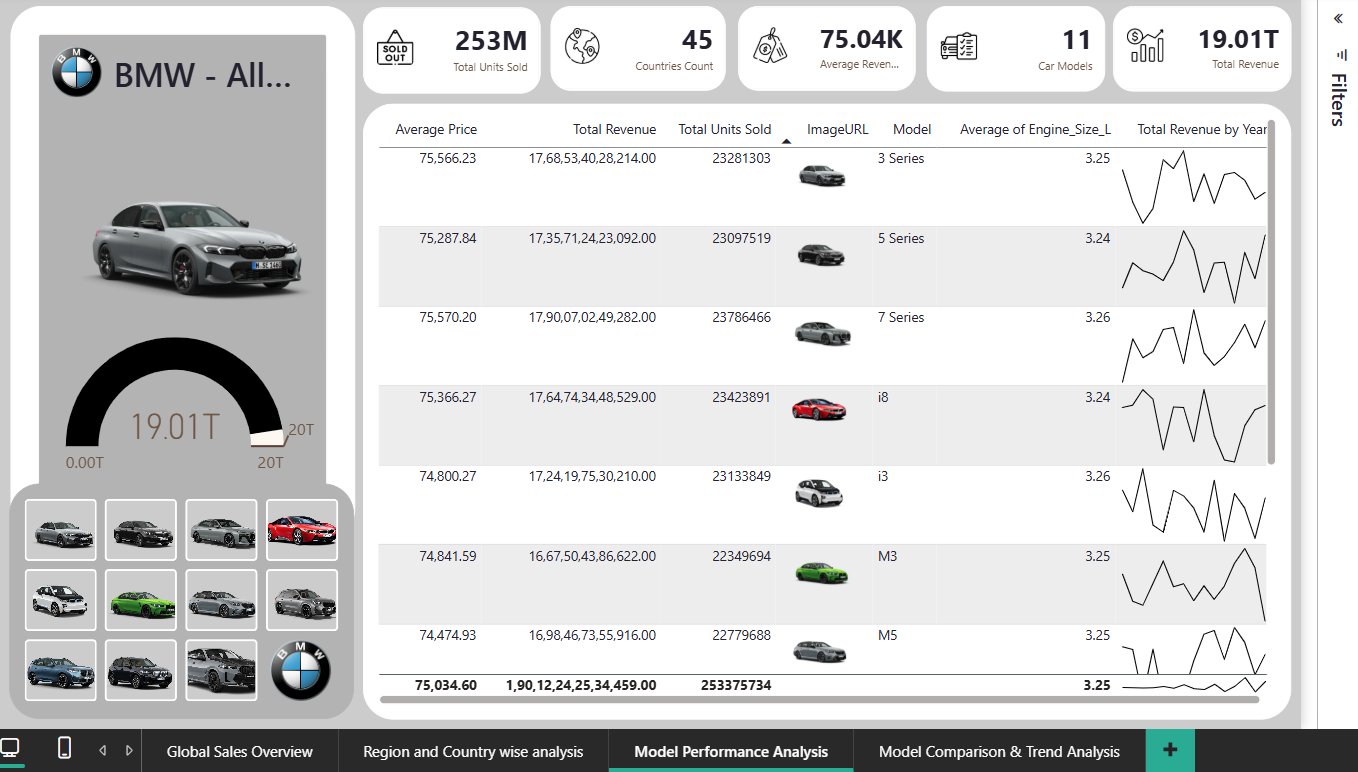

The page's visual inventory and layout, read from the dashboard file:
{"tool":"powerbi","page":{"name":"Model Performance Analysis","canvas":[1280,720],"ordinal":2},"visuals":[{"type":"donutChart","title":"Sales Volume Distribution","fields":{"Category":["Sales.Sales_Classification"],"Y":["_Measures.Total Units Sold"]},"box":[39,408.3,242.4,70.7],"z":2000},{"type":"cardVisual","fields":{"Data":["_Measures.Selected Model"]},"box":[11.7,10,338.3,523.3],"z":4000},{"type":"cardVisual","fields":{"Data":["_Measures.Total Units Sold"]},"box":[358.9,11.1,174.4,84.4],"z":5000},{"type":"cardVisual","fields":{"Data":["_Measures.Countries Count"]},"box":[542.2,10,172.2,83.3],"z":8000},{"type":"cardVisual","fields":{"Data":["_Measures.Average Revenue per Unit"]},"box":[726.7,10,174.4,83.3],"z":9000},{"type":"cardVisual","fields":{"Data":["_Measures.Car Models Count"]},"box":[911.2,10,175,83.8],"z":10000},{"type":"cardVisual","fields":{"Data":["_Measures.Total Revenue"]},"box":[1095,10,175,83.8],"z":11000},{"type":"advancedSlicerVisual","fields":{"Values":["Model_Image.ImageURL"]},"box":[11.4,478.6,338.6,231.4],"z":12000},{"type":"image","box":[261.4,631.4,71.4,60],"z":13000},{"type":"image","box":[13,80.8,337.6,298.7],"z":14000},{"type":"gauge","fields":{"MaxValue":["Model_Image.Revenue Target"],"TargetValue":["Model_Image.Revenue Target"],"Y":["_Measures.Total Revenue"]},"box":[39,330.4,304.4,148.6],"z":15000},{"type":"tableEx","fields":{"Values":["_Measures.Average Price","_Measures.Total Revenue","_Measures.Total Units Sold","Model_Image.ImageURL","Model_Image.Model","Avg(Sales.Engine_Size_L)","SparklineData(_Measures.Total Revenue_[Sales.Year])"]},"box":[357.7,105,911.3,605.1],"z":17001}]}

Visuals, with their boxes on the page's 1280x720 design canvas (x1, y1, x2, y2). These are canvas units, not pixel positions in the 1358x772 screenshot, which may show the page scaled, cropped or inside an application window:
"Sales Volume Distribution" donutChart: left=39, top=408, right=281, bottom=479
cardVisual - _Measures.Selected Model: left=12, top=10, right=350, bottom=533
cardVisual - _Measures.Total Units Sold: left=359, top=11, right=533, bottom=96
cardVisual - _Measures.Countries Count: left=542, top=10, right=714, bottom=93
cardVisual - _Measures.Average Revenue per Unit: left=727, top=10, right=901, bottom=93
cardVisual - _Measures.Car Models Count: left=911, top=10, right=1086, bottom=94
cardVisual - _Measures.Total Revenue: left=1095, top=10, right=1270, bottom=94
advancedSlicerVisual - Model_Image.ImageURL: left=11, top=479, right=350, bottom=710
image: left=261, top=631, right=333, bottom=691
image: left=13, top=81, right=351, bottom=380
gauge - Model_Image.Revenue Target x Model_Image.Revenue Target: left=39, top=330, right=343, bottom=479
tableEx - _Measures.Average Price x _Measures.Total Revenue: left=358, top=105, right=1269, bottom=710
